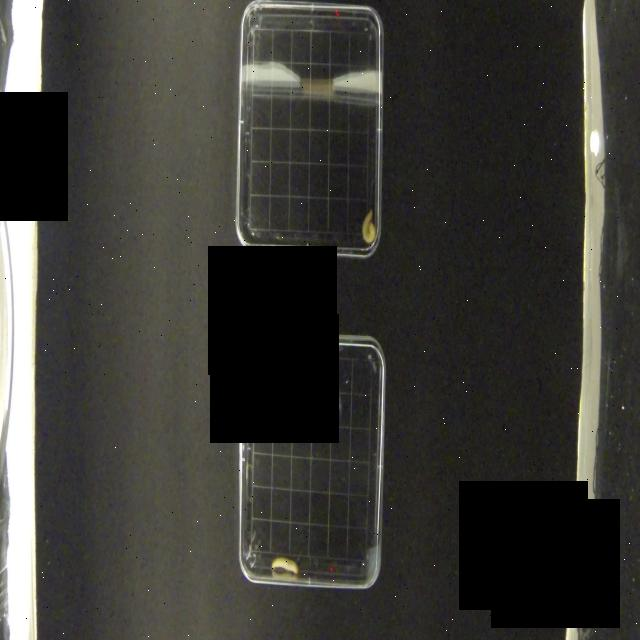larva: (270, 552, 301, 577), (363, 209, 377, 246)
